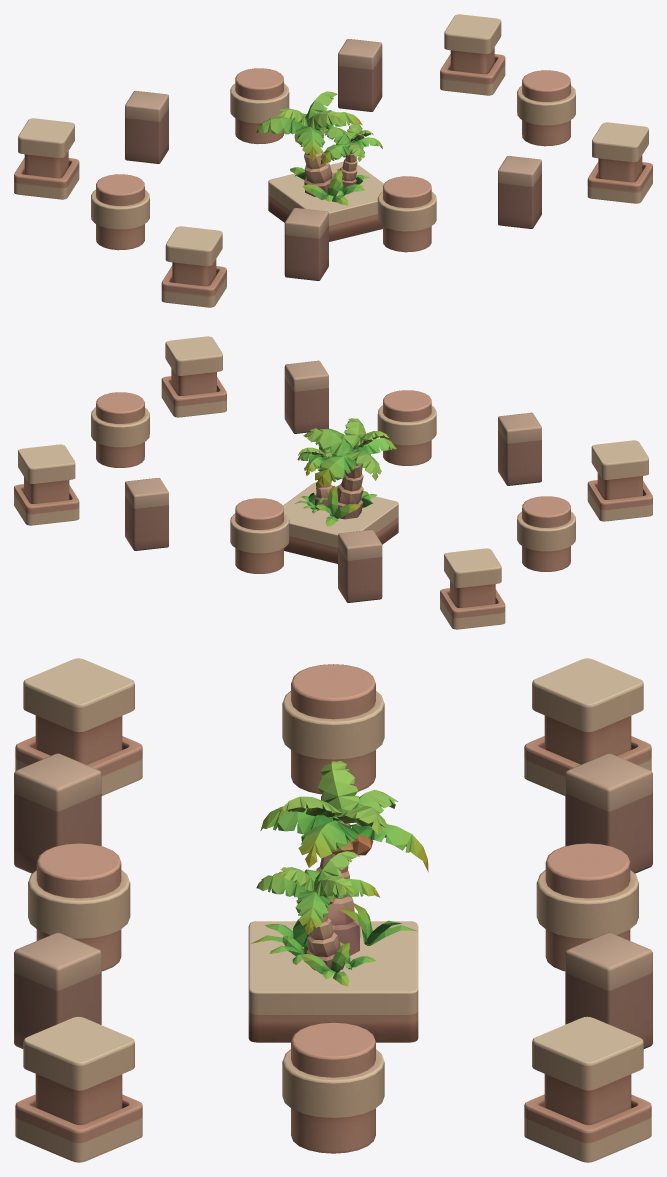
File: Props.fbx
The picture shows the model from 3 angles, top to bottom: view 1: azimuth 30°, elevation 25°; view 2: azimuth 150°, elevation 25°; view 3: azimuth 270°, elevation 25°; orthographic projection. The views are drawn at different scales.
Parts seen in each view (by area): view 1: yezishu01, Box (3), Box (4), Box (5), Box (2), Box02, Cylinder (7), Cylinder (4), Cylinder (1), Cylinder (8), Box03 (11), Box03 (4) (+2 smaller); view 2: yezishu01, Box (5), Box (3), Box (2), Box (4), Box02, Cylinder (8), Cylinder (1), Cylinder (4), Cylinder (7), Box03 (9), Box03 (6) (+2 smaller); view 3: yezishu01, Box02, Box (5), Box (4), Cylinder (4), Box (3), Box (2), Cylinder (1), Cylinder (7), Cylinder (8), Box03 (4), Box03 (9) (+2 smaller).
Boxes of the visible parts, x1,y1,x2,y2 form: yezishu01: [256, 91, 382, 205]; Box (3): [161, 226, 226, 307]; Box (4): [440, 14, 505, 95]; Box (5): [587, 122, 652, 203]; Box (2): [14, 118, 79, 199]; Box02: [268, 161, 383, 241]; Cylinder (7): [377, 176, 436, 252]; Cylinder (4): [517, 70, 575, 146]; Cylinder (1): [91, 174, 149, 250]; Cylinder (8): [230, 68, 289, 144]; Box03 (11): [338, 39, 382, 111]; Box03 (4): [284, 208, 328, 280]; yezishu01: [294, 418, 396, 526]; Box (5): [161, 336, 226, 417]; Box (3): [587, 440, 652, 521]; Box (2): [440, 548, 505, 629]; Box (4): [14, 444, 79, 525]; Box02: [283, 482, 398, 563]; Cylinder (8): [230, 498, 289, 573]; Cylinder (1): [517, 496, 575, 571]; Cylinder (4): [91, 392, 149, 467]; Cylinder (7): [377, 390, 436, 465]; Box03 (9): [338, 529, 382, 602]; Box03 (6): [284, 360, 328, 433]; yezishu01: [250, 761, 428, 986]; Box02: [248, 921, 418, 1042]; Box (5): [15, 1016, 142, 1162]; Box (4): [524, 1016, 651, 1162]; Cylinder (4): [282, 1022, 384, 1153]; Box (3): [15, 658, 142, 795]; Box (2): [524, 658, 651, 795]; Cylinder (1): [282, 664, 384, 794]; Cylinder (7): [28, 843, 130, 971]; Cylinder (8): [536, 843, 638, 971]; Box03 (4): [14, 753, 101, 873]; Box03 (9): [565, 753, 652, 873].
Bounding box in the file's own units: 46.01 × 10.64 × 30.14.
